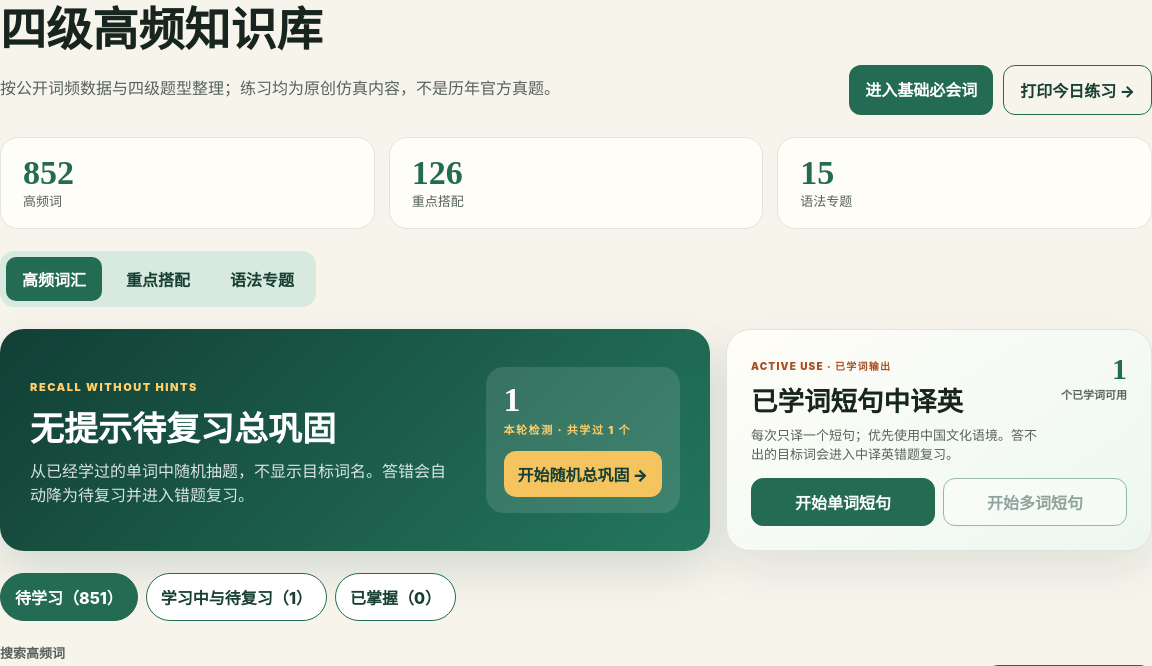
Test: KnowledgePage › records an incorrect aggregate reinforcement as an attempt and mistake
Click the button with aria-label "开始待复习词总巩固" at x=583, y=474, box [504,451,662,497]
(page scrolled)
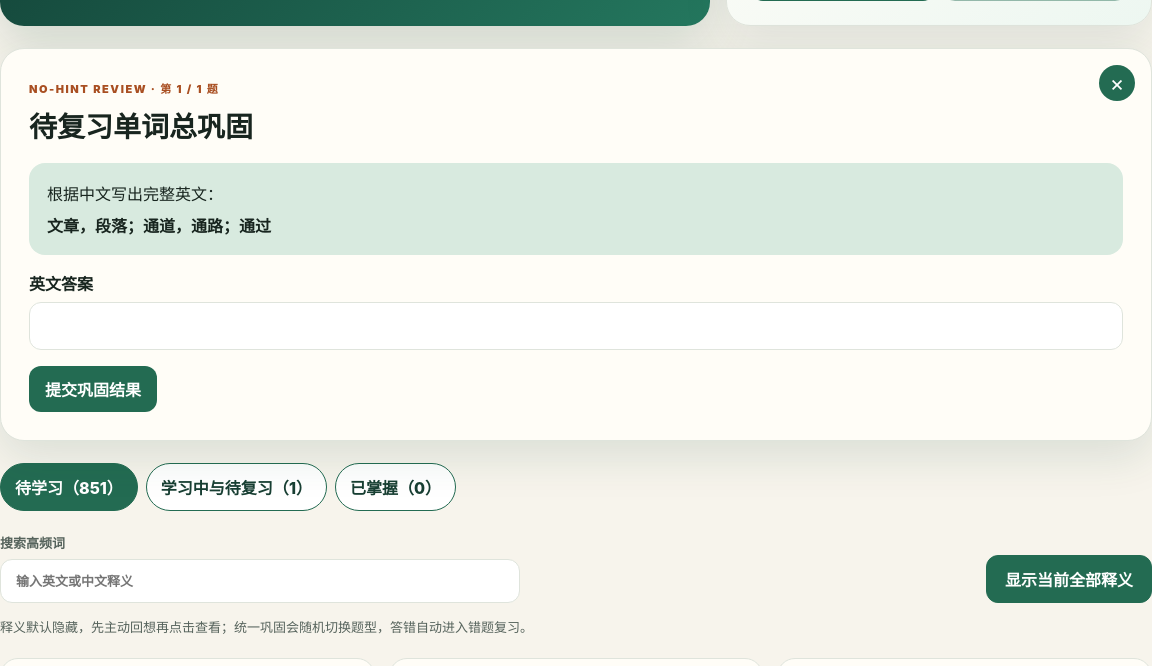
Type "pasage" into the field labelled "英文答案" at x=576, y=326, box [29,302,1123,350]
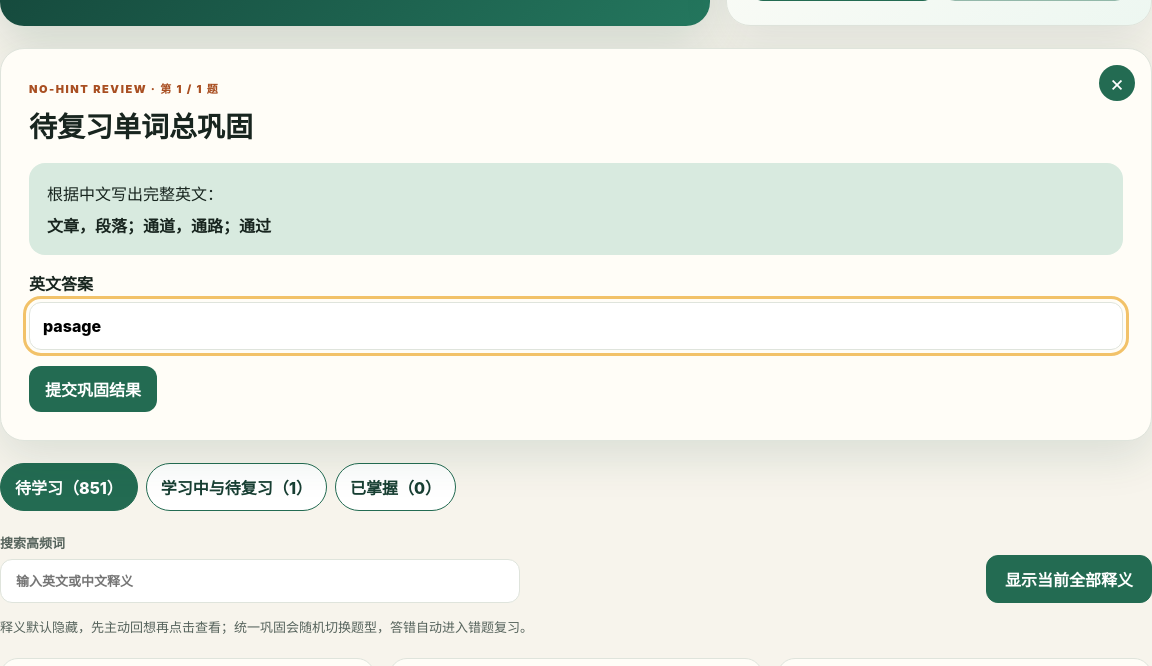
Click the button "提交巩固结果" at x=93, y=389, box [29,366,157,412]
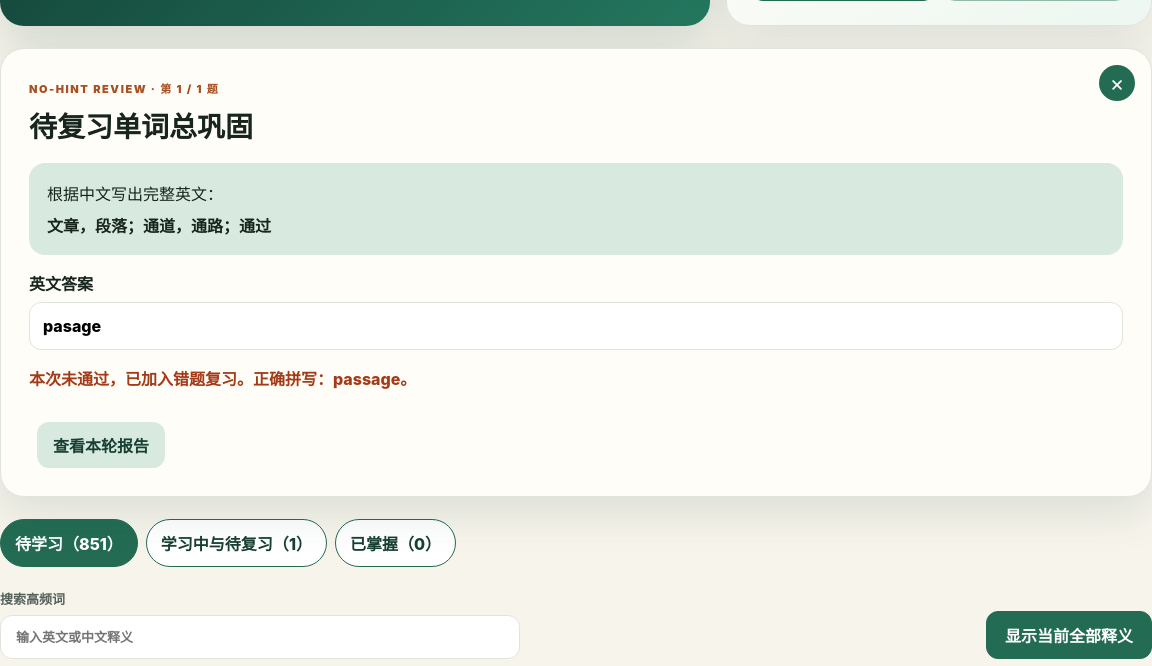
Check: the text "本次未通过，已加入错题复习。正确拼写：passage。" is shown, box [29,369,416,389]
